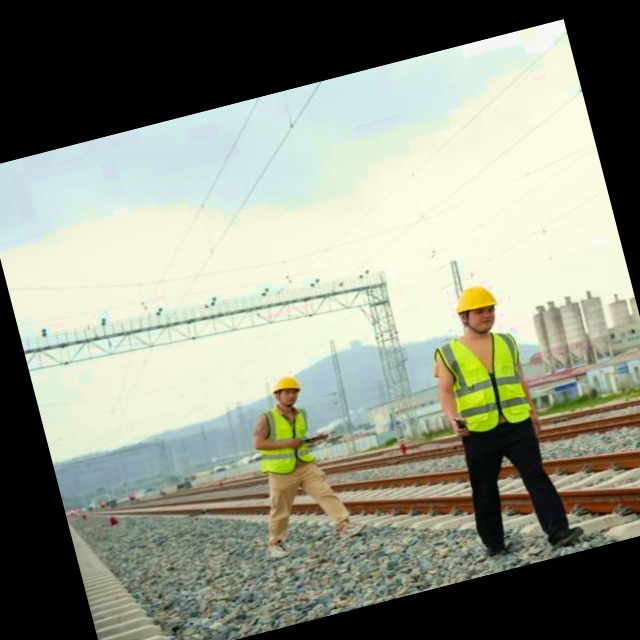Con_Casco: (450, 281, 506, 338), (269, 372, 304, 411)
Con_Chaleco: (434, 323, 540, 438), (252, 402, 320, 476)
